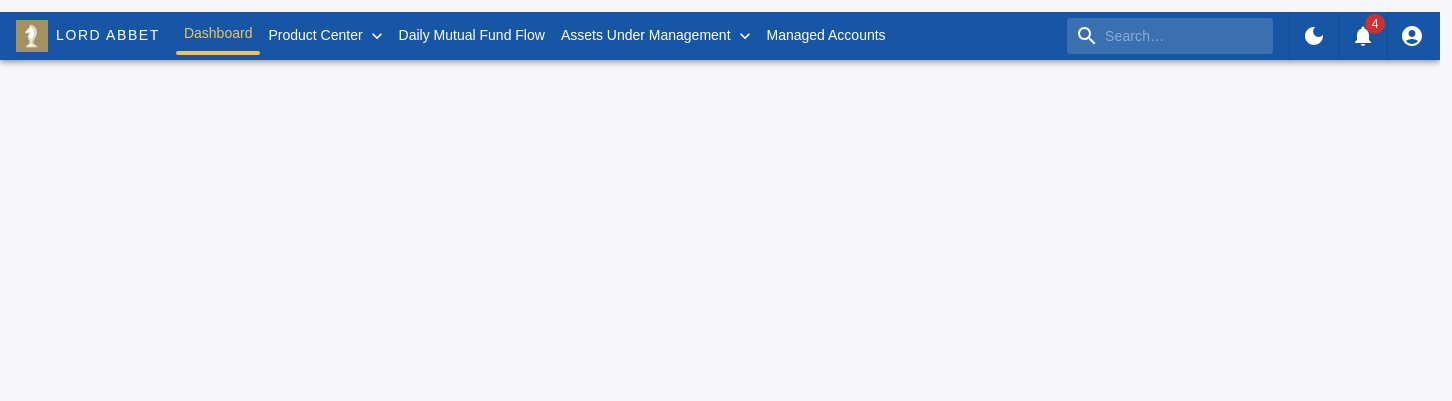
Scenario: App Bar light mode › should click on product center menu that has sub menus
Click the button with test id "btnMainMenu": (326, 36) left=260, top=19, right=391, bottom=53
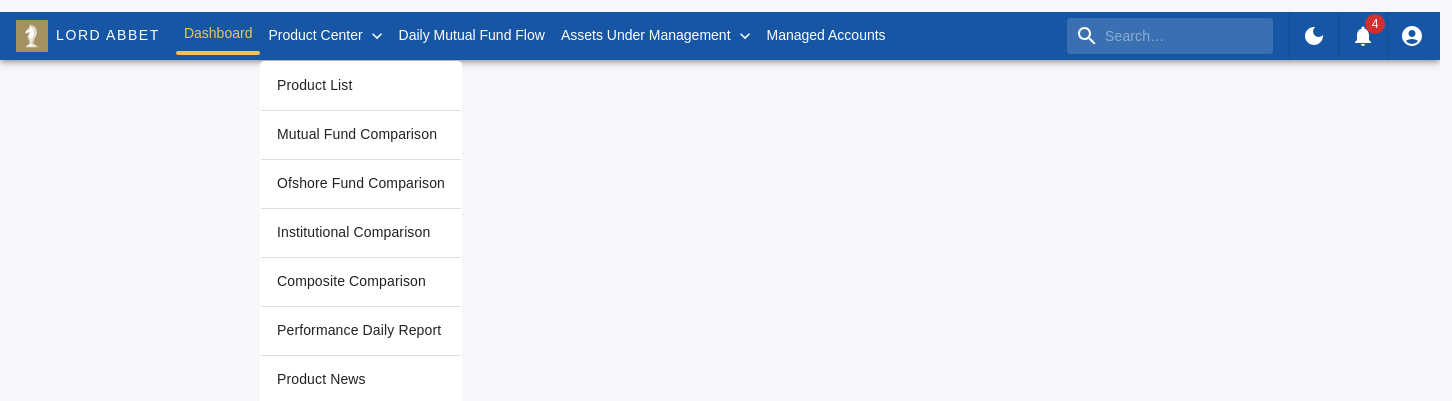
Now the text "Product List" is shown
Click the menu item "Product List": (315, 85) left=277, top=77, right=352, bottom=93
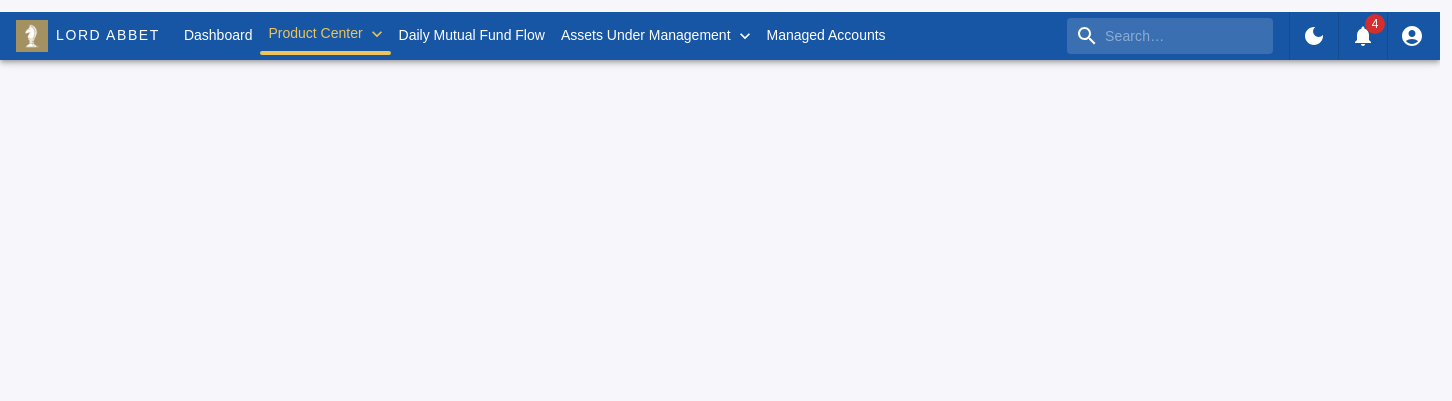
Now the menu item "Product List" is gone
